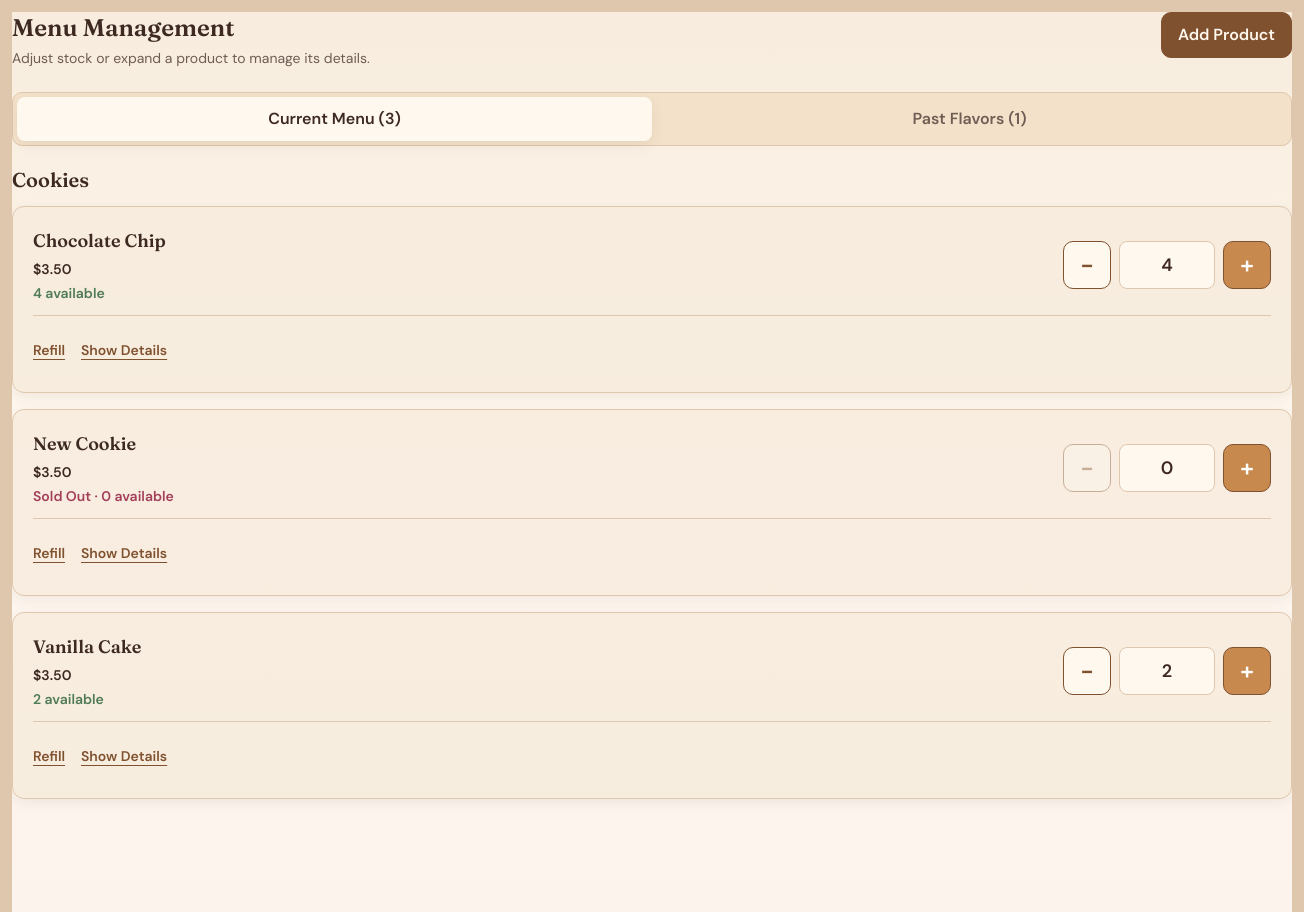
Test: Menu Management stock editor › increments and decrements with atomic delta requests while keeping success quiet
The width and height of the screenshot is (1304, 912).
Expected: the heading "Menu Management" is shown, [12,13,234,42]
Click the button named "Add one Chocolate Chip". click: coordinates (1247, 265)
box: [1223,241,1271,289]
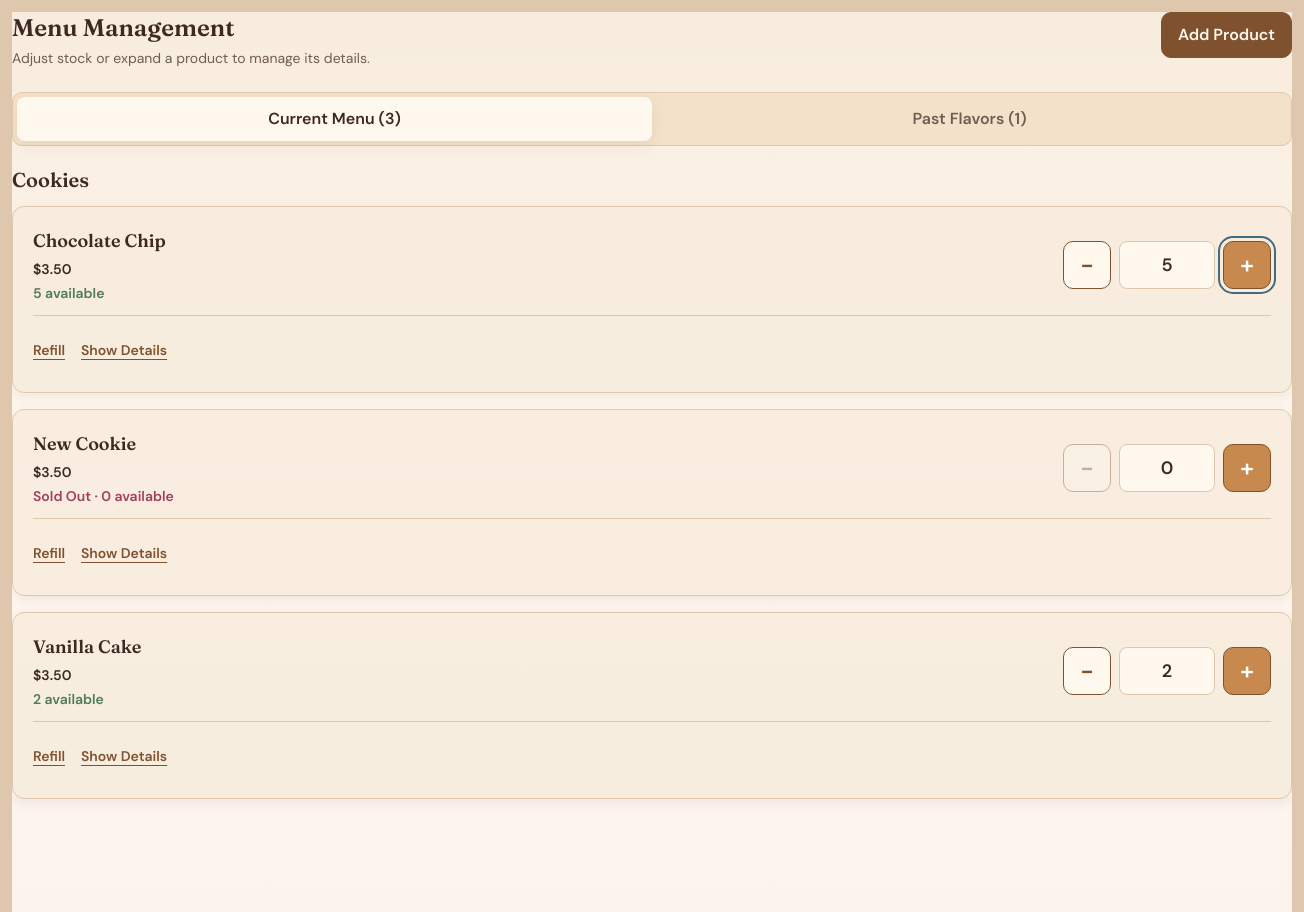
Result: the field named "Chocolate Chip quantity" holds "5" at [1119,241,1215,289]
Click the button named "Remove one Chocolate Chip". click: coordinates (1087, 265)
box: [1063,241,1111,289]
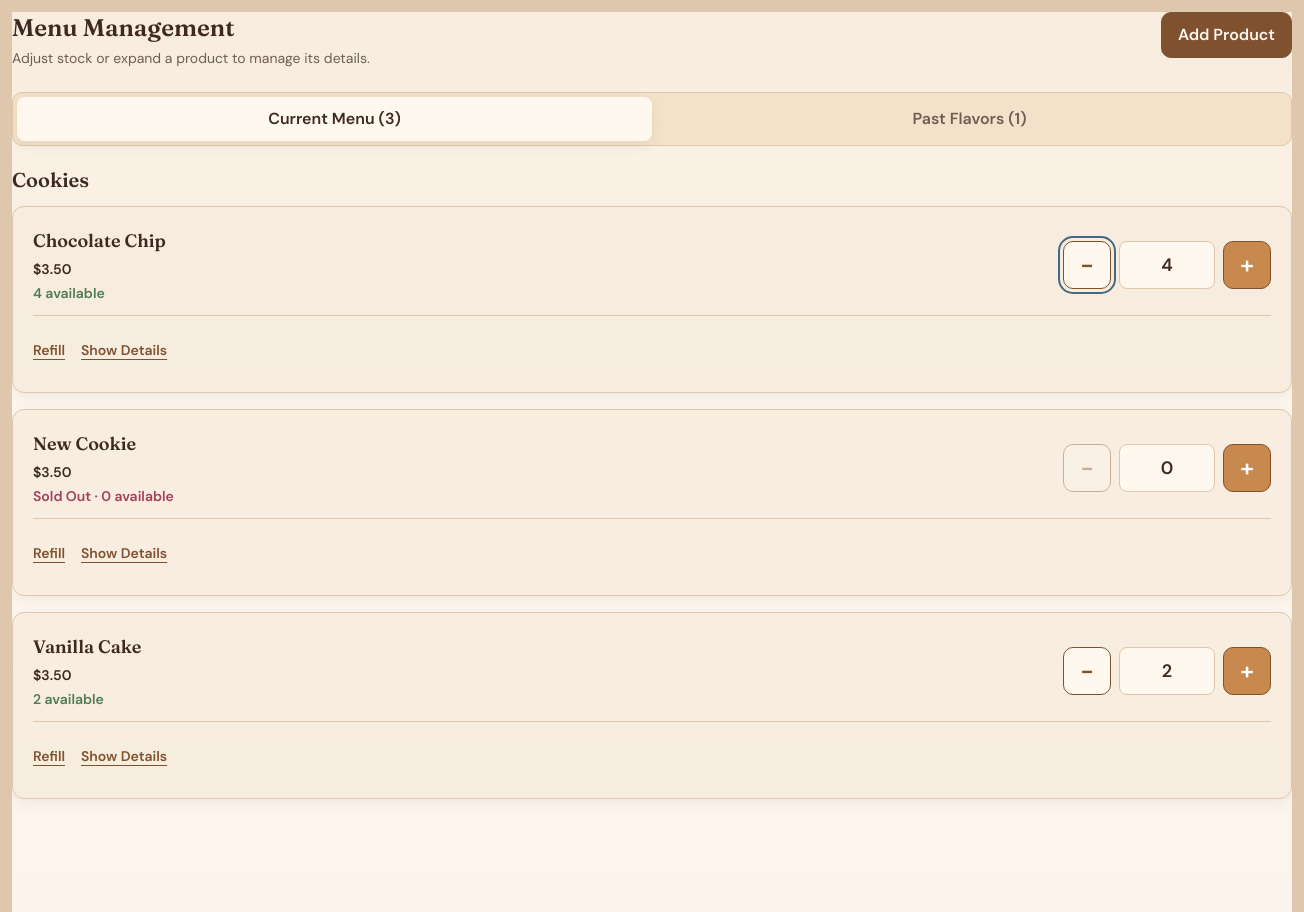
Result: the field named "Chocolate Chip quantity" holds "4" at [1119,241,1215,289]
